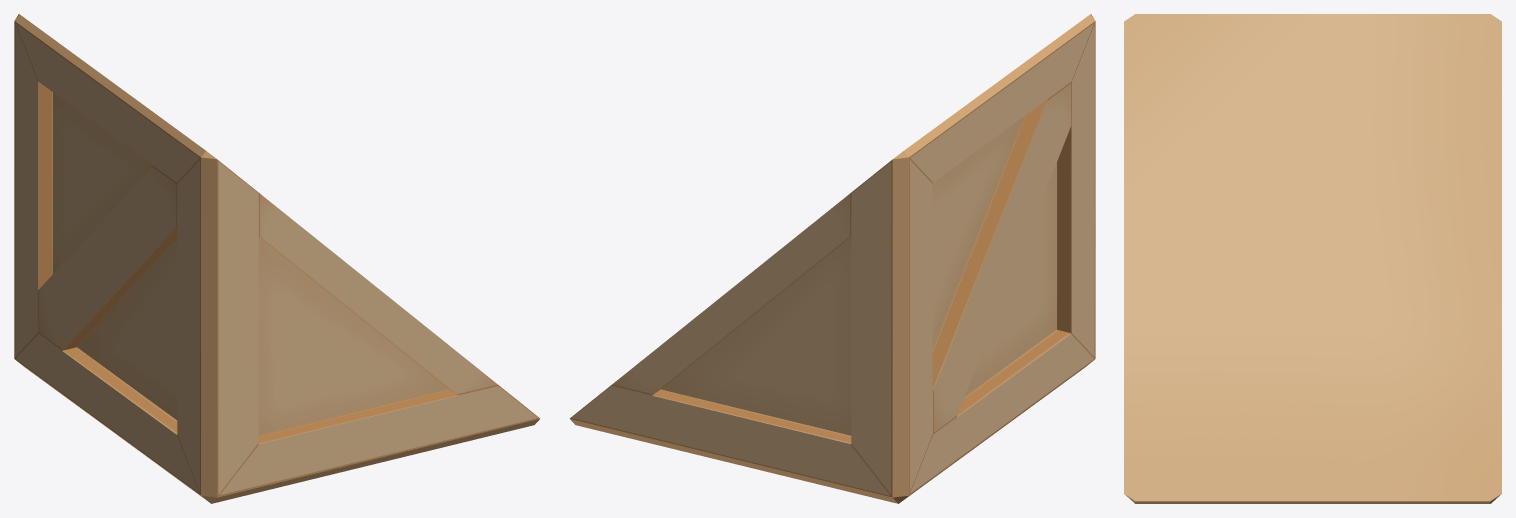
Rendered from SlopeL.fbx.
3 renders of one model, left to right at view 1: azimuth 30°, elevation 25°; view 2: azimuth 150°, elevation 25°; view 3: azimuth 270°, elevation 25°, orthographic. The views are drawn at different scales.
Parts seen in each view (by area): view 1: Slope; view 2: Slope; view 3: Slope.
Part boxes in pixels (x1,y1,x2,y2): Slope: (14, 14, 540, 503); Slope: (569, 14, 1095, 503); Slope: (1124, 14, 1501, 503).
Size of the model in its own units: 0.985 by 0.985 by 1.
